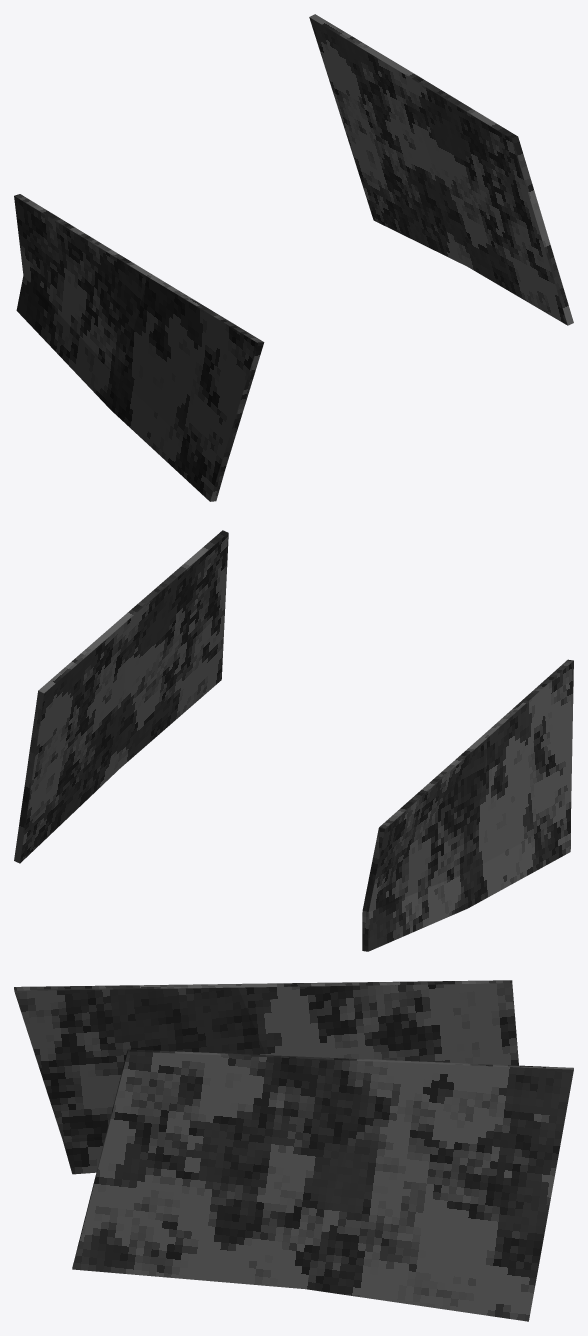
Rendered from F7RearLandingGearRightFlaps.glb.
3 renders of one model, top to bottom at view 1: azimuth 30°, elevation 25°; view 2: azimuth 150°, elevation 25°; view 3: azimuth 270°, elevation 25°, orthographic. The views are drawn at different scales.
Visible parts, largest first — view 1: ladning gear rr, ladning gear rr.001; view 2: ladning gear rr, ladning gear rr.001; view 3: ladning gear rr.001, ladning gear rr.
Part boxes in pixels (x1,y1,x2,y2): ladning gear rr: (14, 194, 264, 501); ladning gear rr.001: (309, 14, 573, 325); ladning gear rr: (362, 659, 573, 951); ladning gear rr.001: (14, 530, 228, 863); ladning gear rr.001: (72, 1049, 573, 1321); ladning gear rr: (14, 980, 518, 1174).
Bounding box in the file's own units: 5.94 × 4.07 × 6.78.
Materials: 1 (1 with a texture image).
